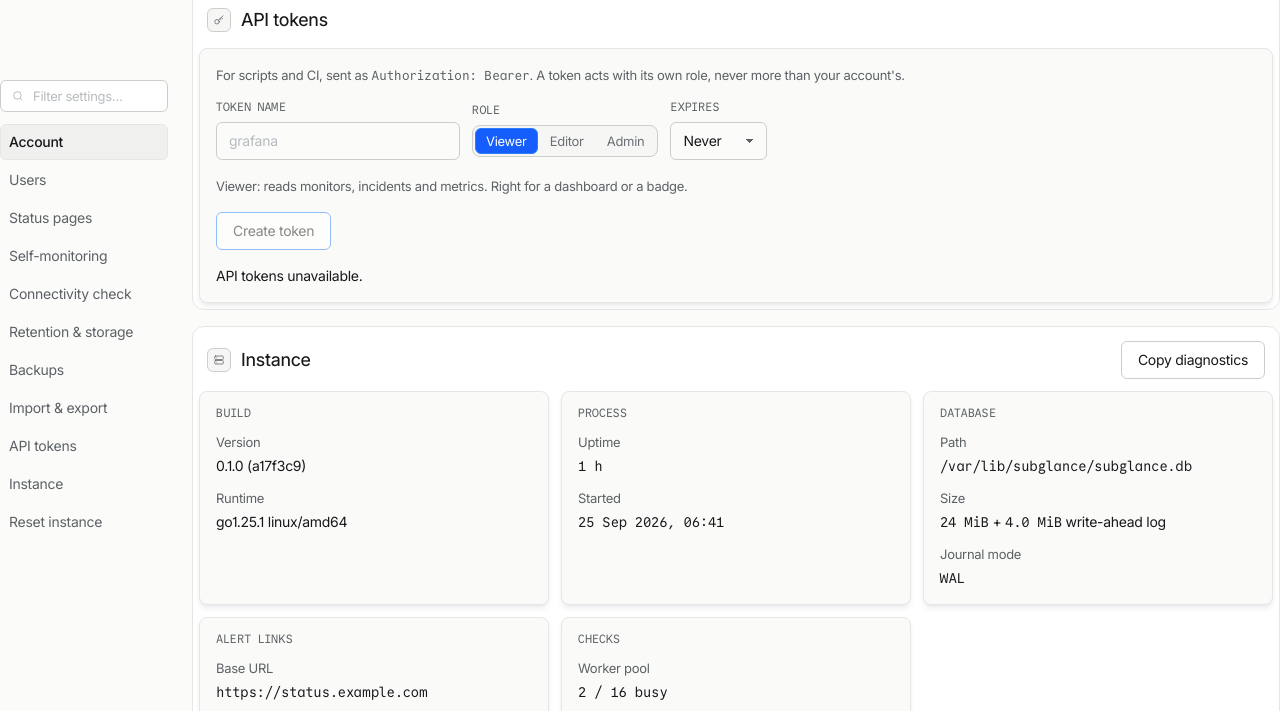
Test case: copies a bug-report summary that leaves the database path out
This screenshot has width=1280, height=711.
(page scrolled)
Click the button "Copy diagnostics".
click(1193, 360)  # box [1121,341,1265,379]
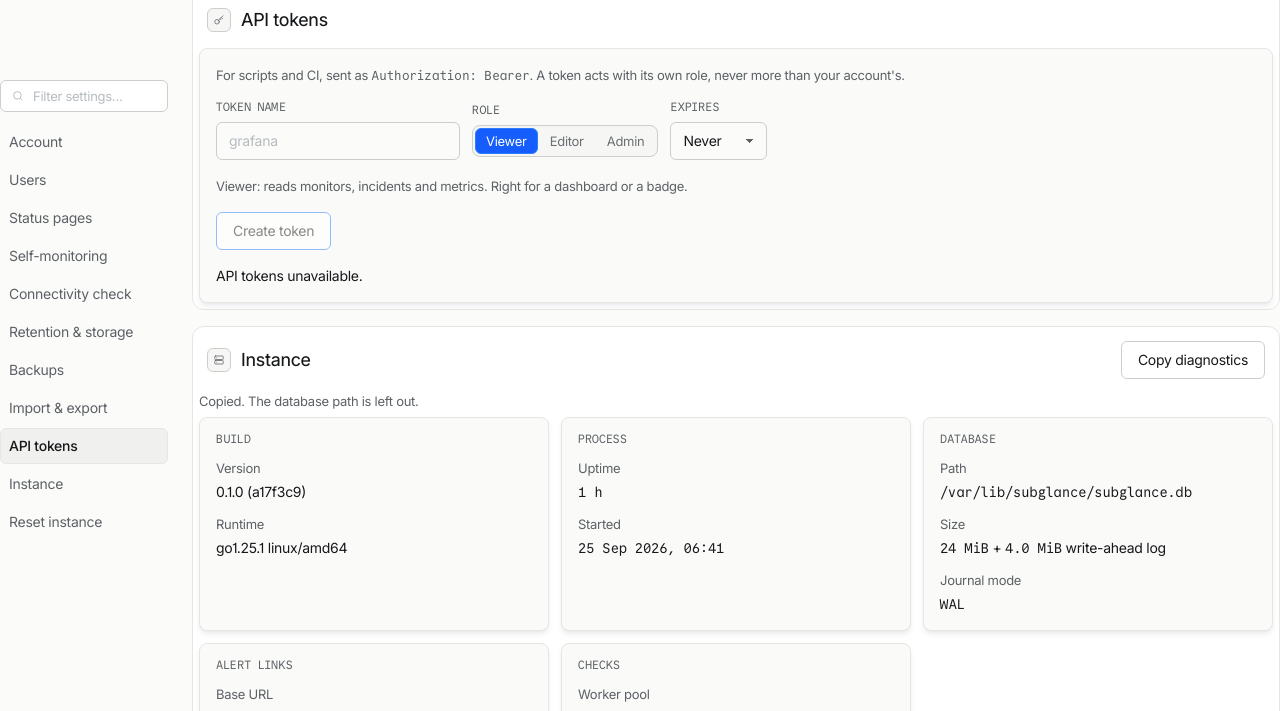
Result: the text "Copied. The database path is left out." is shown at [199,393,418,409]
